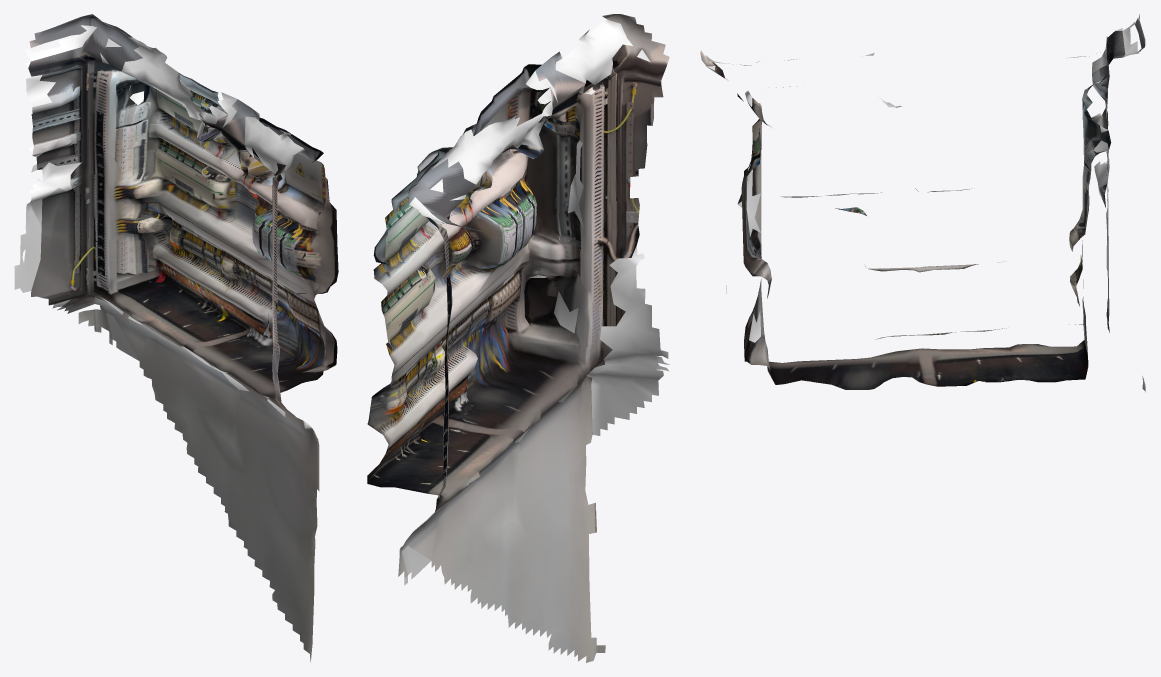
3 views of the same model, side by side, from view 1: azimuth 30°, elevation 25°; view 2: azimuth 150°, elevation 25°; view 3: azimuth 270°, elevation 25° (orthographic). The views are drawn at different scales.
Visible parts, largest first — view 1: texture_0, texture_1, object 1; view 2: texture_0, texture_1, object 1; view 3: texture_0, texture_1, object 1.
Part boxes in pixels (x1=…): texture_0: x1=31, y1=25, x2=338, y2=543; texture_1: x1=28, y1=14, x2=336, y2=662; object 1: x1=14, y1=25, x2=317, y2=437; texture_0: x1=367, y1=14, x2=647, y2=577; texture_1: x1=408, y1=24, x2=669, y2=662; object 1: x1=402, y1=16, x2=669, y2=585; texture_0: x1=737, y1=46, x2=1145, y2=392; texture_1: x1=700, y1=14, x2=1145, y2=322; object 1: x1=707, y1=22, x2=1143, y2=342.
Size of the model in its own units: 0.6048 by 1.77 by 1.18.
Materials: 3 (2 with a texture image).
